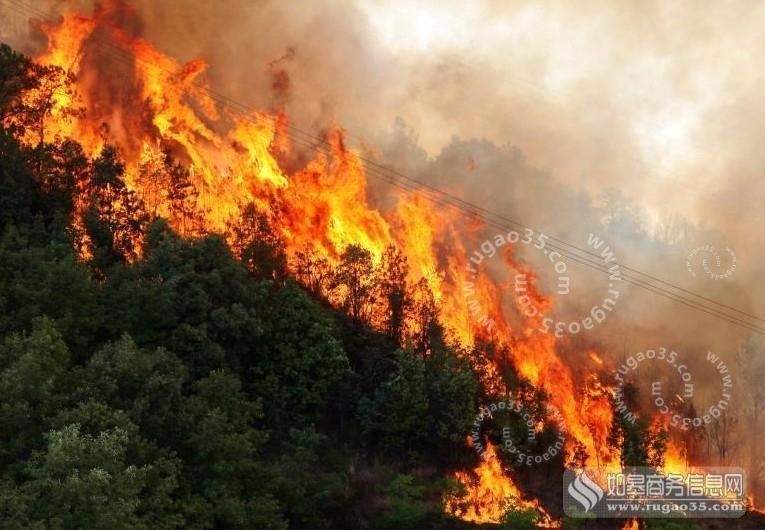fire: (6, 54, 654, 495)
